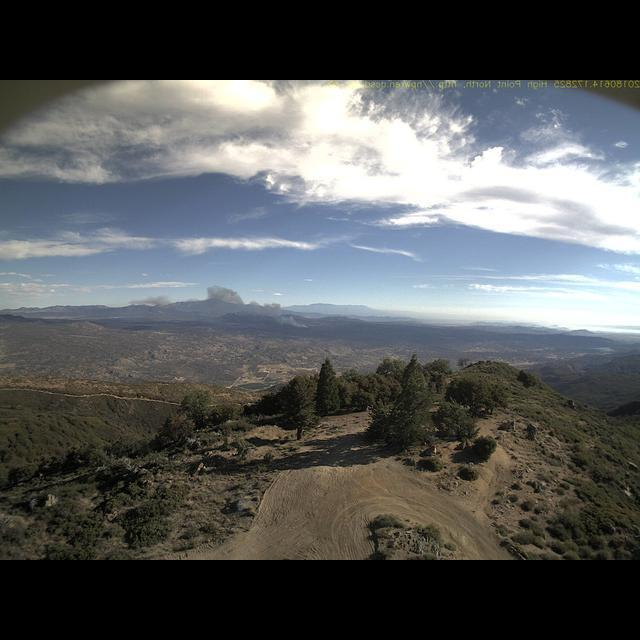Smoke: (202, 281, 312, 333)
